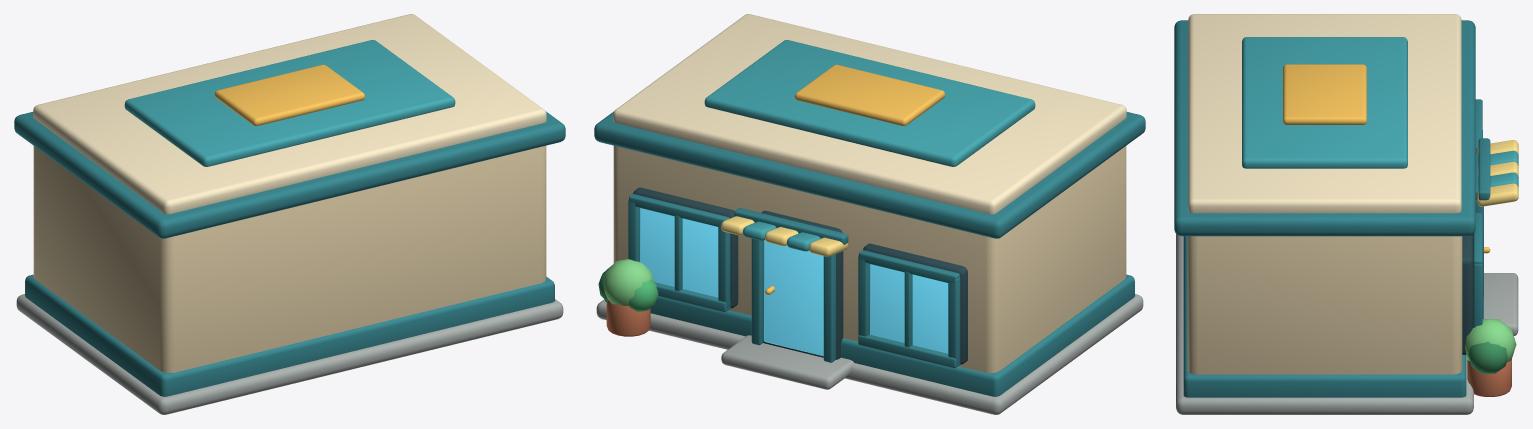
Rendered from startup-building-level-1.glb.
3 renders of one model, left to right at view 1: azimuth 30°, elevation 25°; view 2: azimuth 150°, elevation 25°; view 3: azimuth 270°, elevation 25°, orthographic.
Visible parts, largest first — view 1: main one-floor building, flat upgrade roof, roof upgrade socket, roof shadow tier, lower teal plinth, foundation, roof gold cap; view 2: main one-floor building, flat upgrade roof, roof upgrade socket, roof shadow tier, lower teal plinth, foundation, glass entrance door, roof gold cap, storefront glass, storefront glass.001, front entrance step, deep window recess (+19 smaller); view 3: main one-floor building, flat upgrade roof, roof upgrade socket, roof shadow tier, lower teal plinth, foundation, roof gold cap, front entrance step, deep window recess.001, starter planter foliage, single starter planter, starter planter foliage.002 (+9 smaller).
Part boxes in pixels (x1,y1,x2,y2): main one-floor building: [33, 145, 546, 372]; flat upgrade roof: [33, 14, 546, 214]; roof upgrade socket: [124, 40, 455, 166]; roof shadow tier: [14, 111, 565, 238]; lower teal plinth: [25, 274, 554, 396]; foundation: [16, 294, 563, 414]; roof gold cap: [214, 64, 365, 125]; main one-floor building: [613, 145, 1126, 372]; flat upgrade roof: [613, 14, 1126, 214]; roof upgrade socket: [704, 40, 1035, 166]; roof shadow tier: [594, 111, 1145, 238]; lower teal plinth: [605, 274, 1134, 396]; foundation: [596, 294, 1143, 414]; glass entrance door: [764, 240, 823, 356]; roof gold cap: [794, 64, 945, 125]; storefront glass: [870, 264, 948, 353]; storefront glass.001: [640, 208, 718, 297]; front entrance step: [721, 335, 853, 389]; deep window recess: [863, 243, 967, 364]; main one-floor building: [1187, 236, 1462, 374]; flat upgrade roof: [1188, 14, 1461, 213]; roof upgrade socket: [1242, 37, 1407, 168]; roof shadow tier: [1174, 20, 1475, 236]; lower teal plinth: [1183, 236, 1466, 397]; foundation: [1176, 234, 1473, 414]; roof gold cap: [1283, 64, 1366, 124]; front entrance step: [1484, 273, 1518, 335]; deep window recess.001: [1462, 234, 1473, 354]; starter planter foliage: [1465, 319, 1516, 361]; single starter planter: [1467, 359, 1511, 396]; starter planter foliage.002: [1467, 341, 1507, 373].
Bounding box in the file's own units: 8.16 × 4.28 × 5.9.
